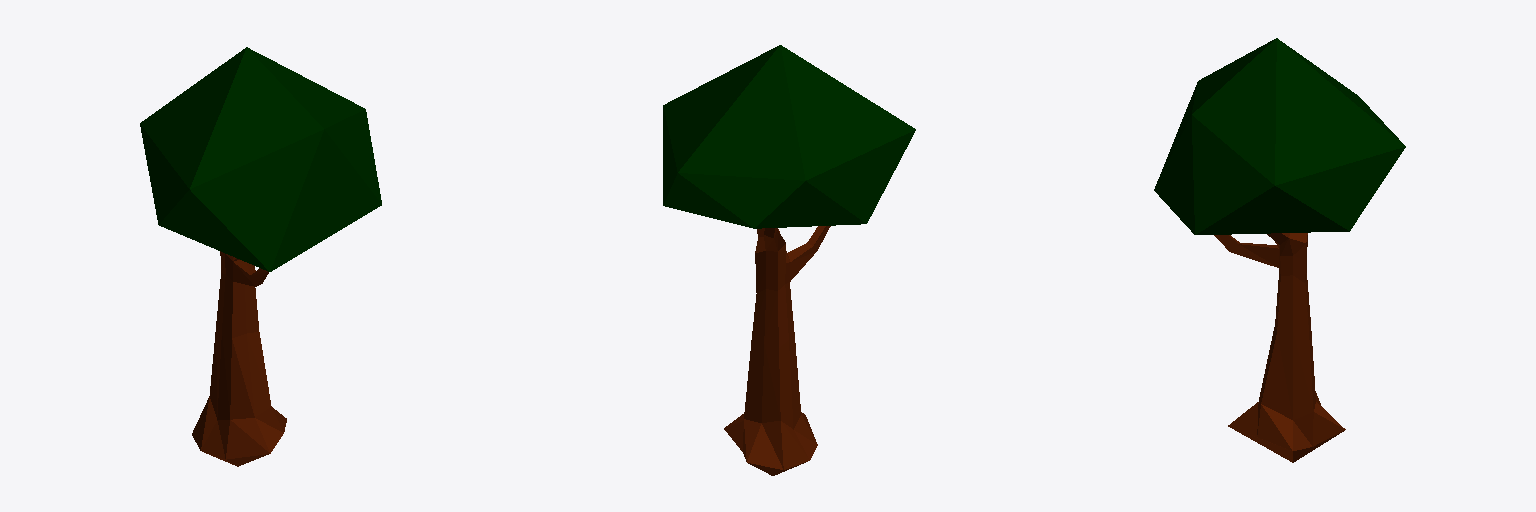
File: Tree.obj
3 views of the same model, side by side, from view 1: azimuth 30°, elevation 25°; view 2: azimuth 150°, elevation 25°; view 3: azimuth 270°, elevation 25° (orthographic).
Visible parts, largest first — view 1: Cube; view 2: Cube; view 3: Cube.
Boxes of the visible parts, <box> form: Cube: <box>140,47,381,466</box>; Cube: <box>663,45,915,475</box>; Cube: <box>1154,38,1405,462</box>.
Bounding box in the file's own units: 6.28 × 11.88 × 6.38.